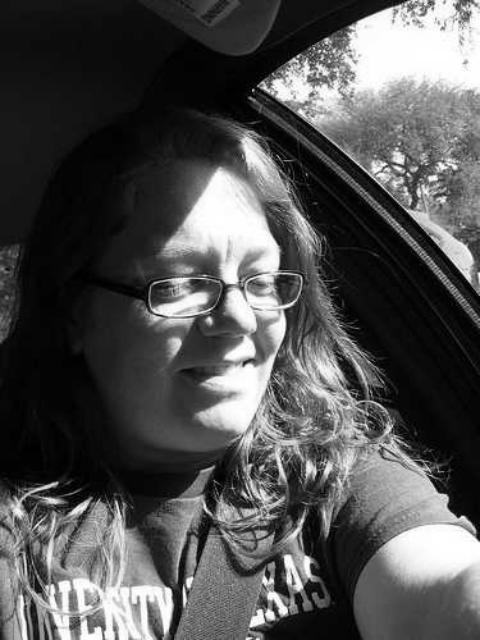SafeDriving: (236, 254, 288, 300)
Seatbelt: (171, 476, 295, 640)
